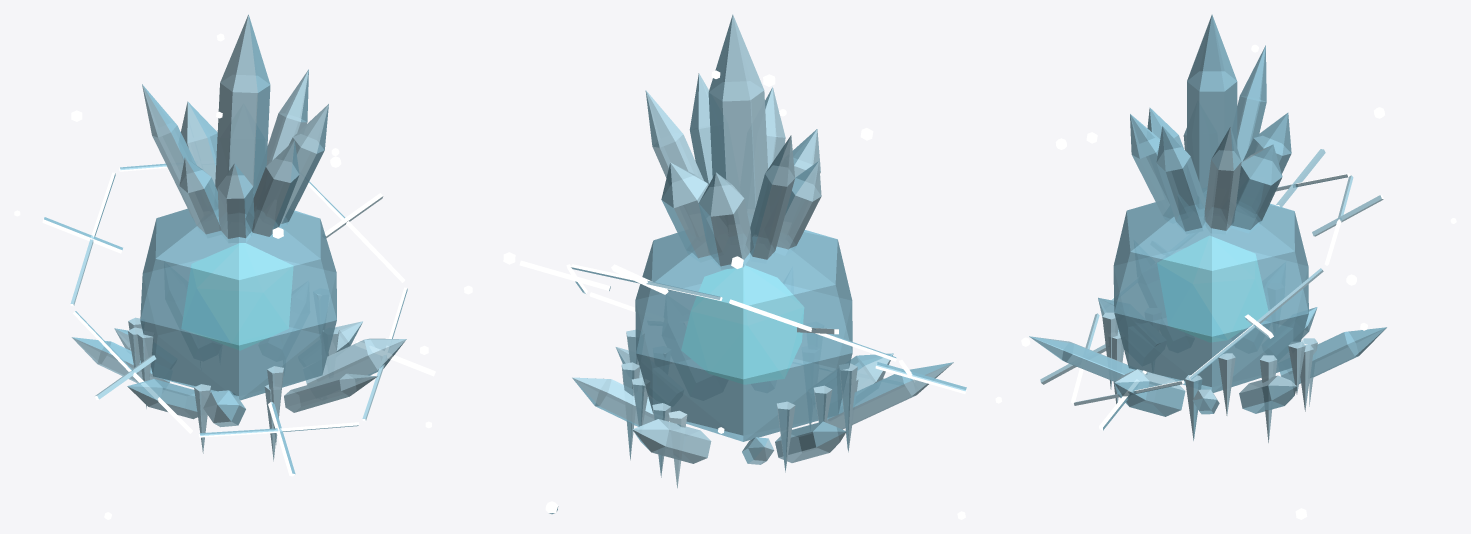
File: fruto-gelo.glb
The picture shows the model from 3 angles, left to right: view 1: azimuth 30°, elevation 25°; view 2: azimuth 150°, elevation 25°; view 3: azimuth 270°, elevation 25°; orthographic projection. The views are drawn at different scales.
Parts seen in each view (by area): view 1: Fruit_Body; view 2: Fruit_Body; view 3: Fruit_Body.
Part boxes in pixels (x1,y1,x2,y2): Fruit_Body: (14,14,435,519); Fruit_Body: (464,14,966,519); Fruit_Body: (995,14,1456,519).
Bounding box in the file's own units: 1.75 × 2.16 × 2.01.
